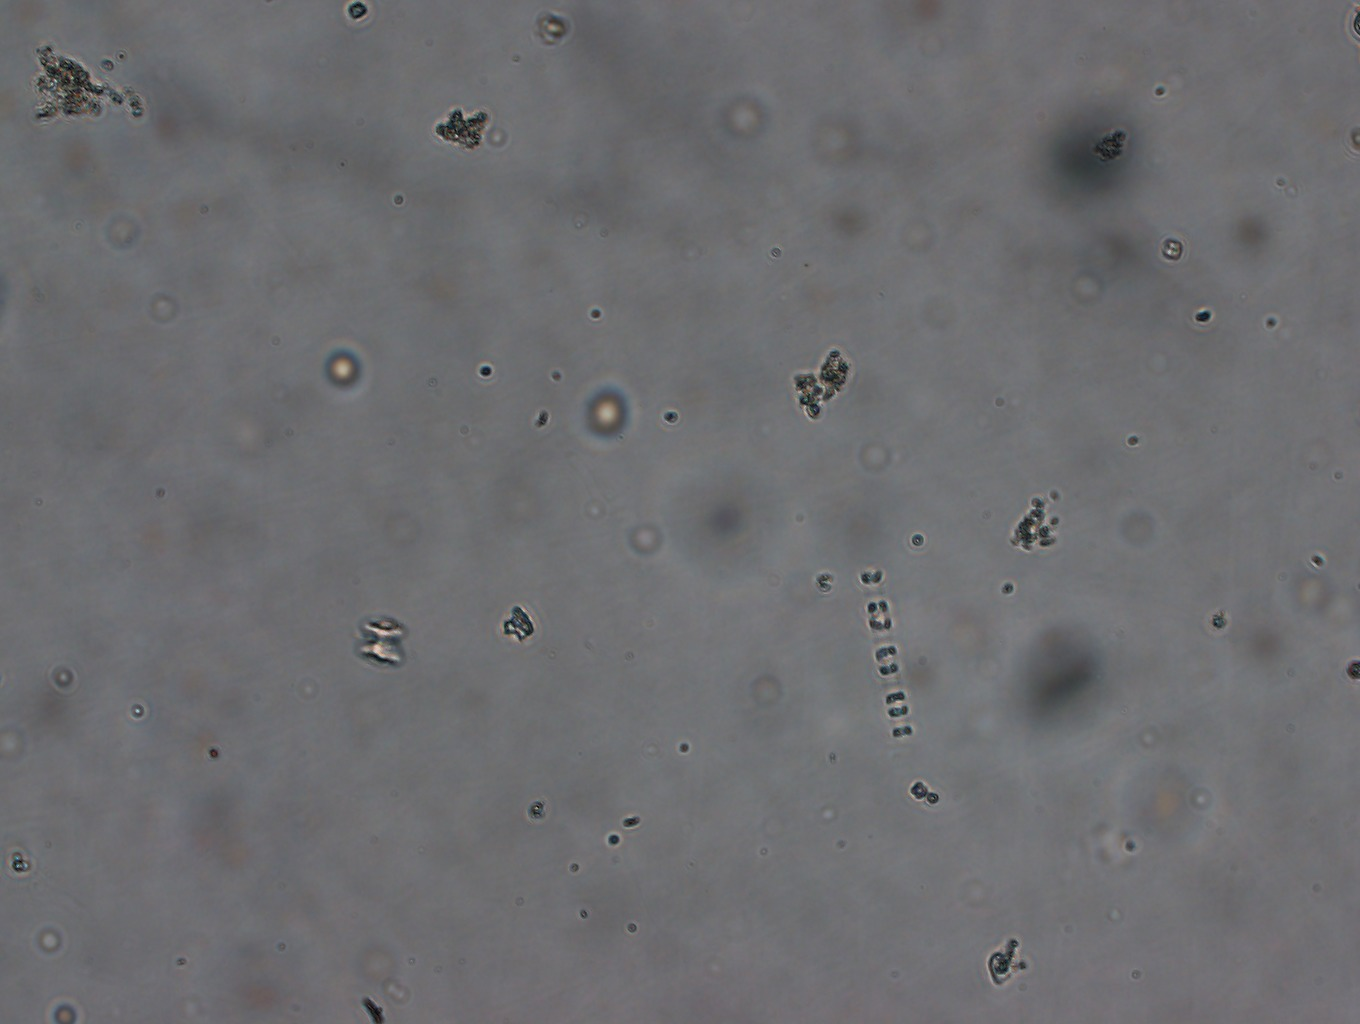skeletonema: (845, 564, 930, 774)
